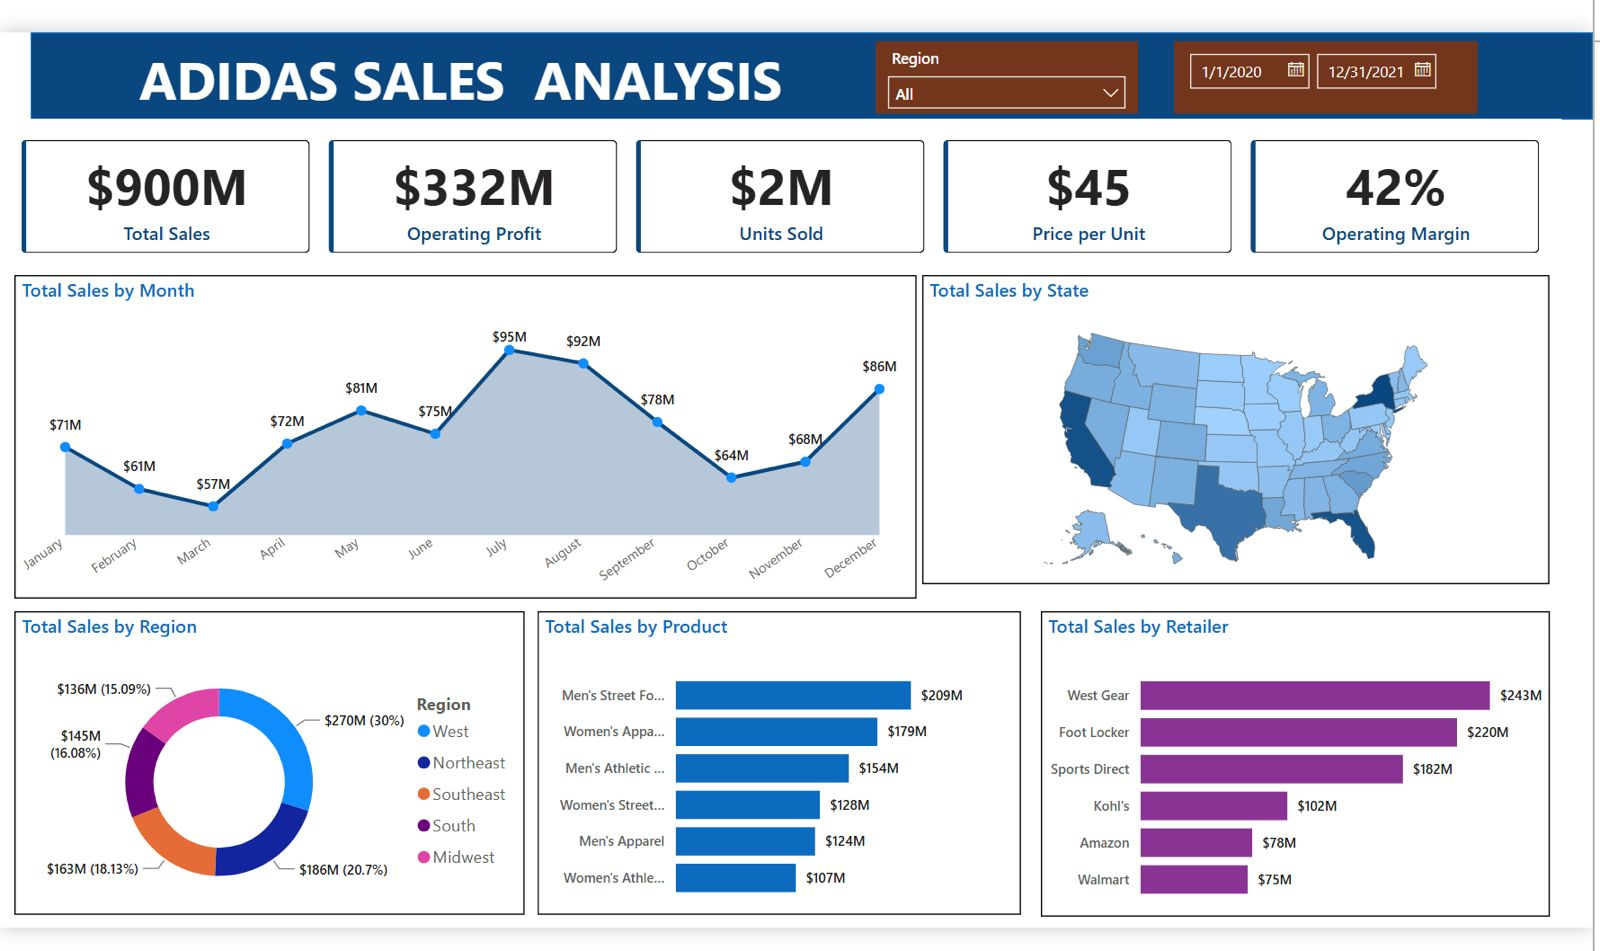

What the dashboard file says about the page in this screenshot:
{"tool":"powerbi","page":{"name":"Page 1","canvas":[1280,720],"ordinal":0},"visuals":[{"type":"shape","box":[24.6,0,1255.4,70],"z":0},{"type":"textbox","box":[106.9,2.9,534.5,66.5],"z":1000},{"type":"cardVisual","fields":{"Data":["Sum(Data Sales Adidas.Total Sales)","Sum(Data Sales Adidas.Operating Profit)","Sum(Data Sales Adidas.Units Sold)","Avg(Data Sales Adidas.Price per Unit)","Avg(Data Sales Adidas.Operating Margin)"]},"box":[0,69.3,1255,125],"z":2000},{"type":"areaChart","title":"Total Sales by Month","fields":{"Category":["Data Sales Adidas.Invoice Date.Variation.Date Hierarchy.Month"],"Y":["Sum(Data Sales Adidas.Total Sales)"]},"box":[11.6,195,725,260],"z":3000},{"type":"donutChart","title":"Total Sales by Region","fields":{"Category":["Data Sales Adidas.Region"],"Y":["Sum(Data Sales Adidas.Total Sales)"]},"box":[11.6,465.2,410,244.2],"z":5000},{"type":"barChart","title":"Total Sales by Product","fields":{"Category":["Data Sales Adidas.Product"],"Y":["Sum(Data Sales Adidas.Total Sales)"]},"box":[432,465.2,388.6,244.2],"z":6000},{"type":"barChart","title":"Total Sales by Retailer","fields":{"Y":["Sum(Data Sales Adidas.Total Sales)"],"Category":["Data Sales Adidas.Retailer"]},"box":[836.5,465.2,408.8,245.6],"z":6001},{"type":"slicer","fields":{"Values":["Data Sales Adidas.Region"]},"box":[703.6,7.2,210.9,57.8],"z":6002},{"type":"slicer","fields":{"Values":["Data Sales Adidas.Invoice Date"]},"box":[943.4,7.2,244.2,57.8],"z":6003},{"type":"shapeMap","title":" Total Sales by State","fields":{"Category":["Data Sales Adidas.State"],"Value":["Sum(Data Sales Adidas.Total Sales)"]},"box":[741.1,195,504.2,248.5],"z":6004}]}

Visuals, with their boxes in screenshot pixels (x1, y1, x2, y2):
shape: bbox=[34, 29, 1582, 115]
textbox: bbox=[136, 33, 795, 115]
cardVisual - Sum(Data Sales Adidas.Total Sales) x Sum(Data Sales Adidas.Operating Profit): bbox=[4, 115, 1551, 269]
"Total Sales by Month" areaChart: bbox=[18, 270, 912, 590]
"Total Sales by Region" donutChart: bbox=[18, 603, 524, 904]
"Total Sales by Product" barChart: bbox=[537, 603, 1016, 904]
"Total Sales by Retailer" barChart: bbox=[1035, 603, 1539, 905]
slicer - Data Sales Adidas.Region: bbox=[872, 38, 1131, 109]
slicer - Data Sales Adidas.Invoice Date: bbox=[1167, 38, 1468, 109]
" Total Sales by State" shapeMap: bbox=[918, 270, 1539, 576]
